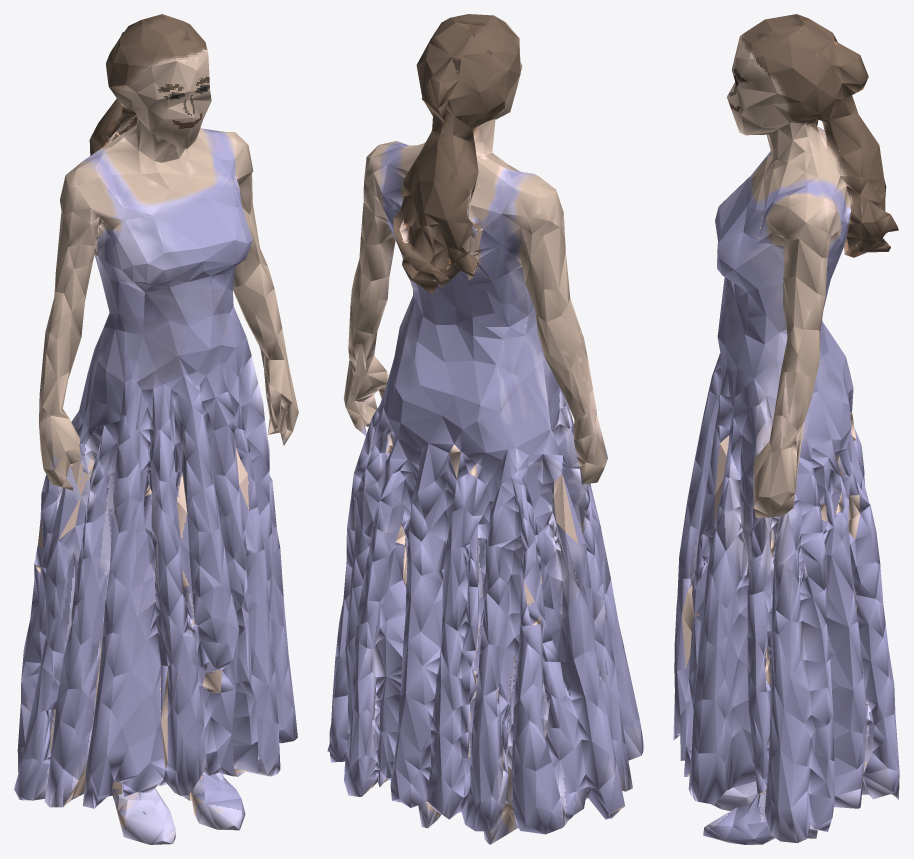
File: arina_faced2.glb
The picture shows the model from 3 angles, left to right: view 1: azimuth 30°, elevation 25°; view 2: azimuth 150°, elevation 25°; view 3: azimuth 270°, elevation 25°; orthographic projection. The views are drawn at different scales.
Parts seen in each view (by area): view 1: Mesh1.0; view 2: Mesh1.0; view 3: Mesh1.0.
Boxes of the visible parts, <box> form: Mesh1.0: <box>14,14,298,844</box>; Mesh1.0: <box>327,14,644,844</box>; Mesh1.0: <box>673,14,899,844</box>.
Bounding box in the file's own units: 0.7505 × 2.01 × 0.5138.
1 material, 1 textured.
